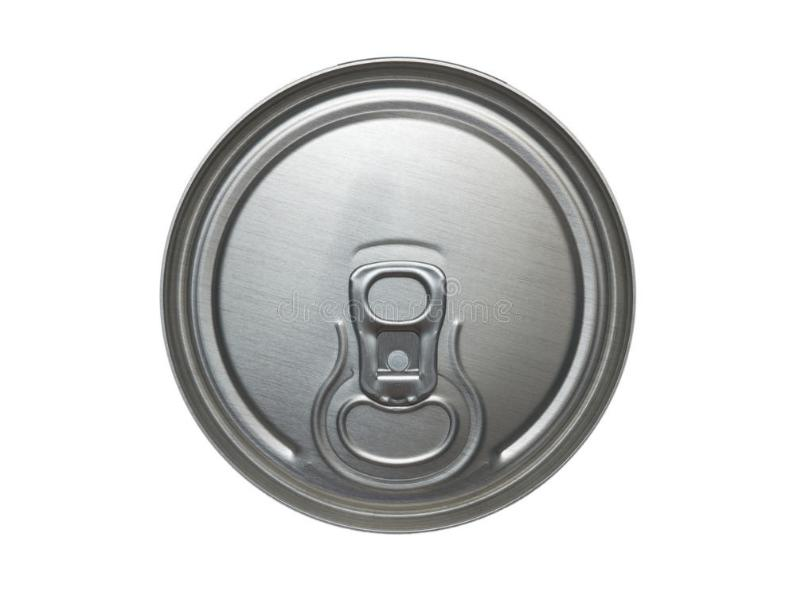can: (151, 50, 644, 545)
